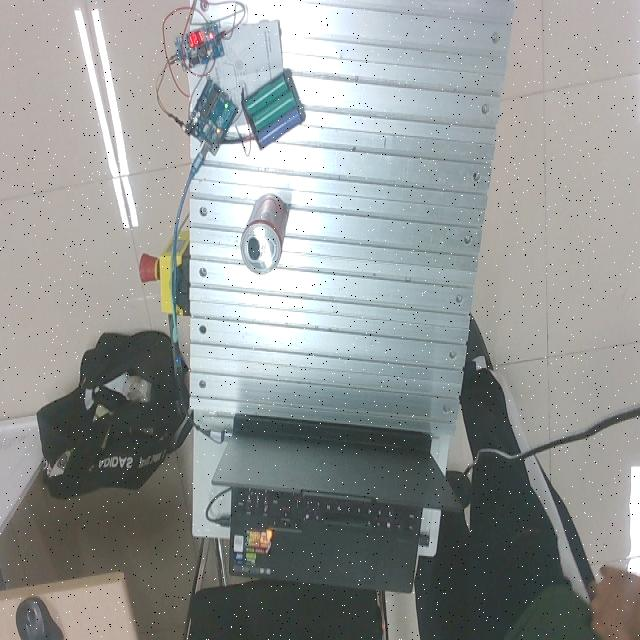coca: (240, 195, 287, 276)
